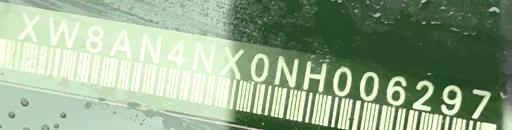letter: (48, 13, 80, 50), (136, 30, 168, 67), (190, 39, 222, 75), (409, 77, 439, 114), (14, 8, 44, 45), (274, 53, 304, 89), (108, 26, 138, 61), (465, 86, 495, 119), (438, 82, 466, 117), (300, 60, 330, 92), (218, 45, 246, 79), (383, 74, 411, 107), (329, 64, 355, 99), (358, 67, 384, 102), (82, 21, 108, 56), (248, 50, 272, 84), (166, 36, 188, 70)
